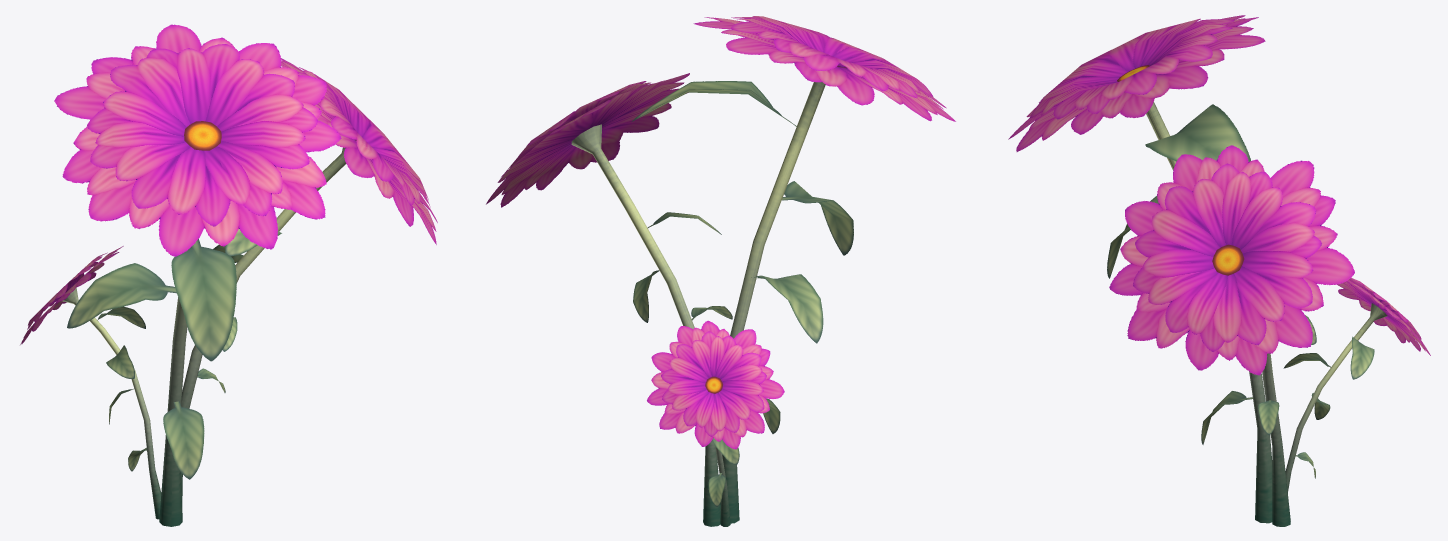
File: ENV1110008.FBX
3 views of the same model, side by side, from view 1: azimuth 30°, elevation 25°; view 2: azimuth 150°, elevation 25°; view 3: azimuth 270°, elevation 25° (orthographic). The views are drawn at different scales.
Visible parts, largest first — view 1: smENV1110008; view 2: smENV1110008; view 3: smENV1110008.
Part boxes in pixels (x1=…): smENV1110008: x1=20, y1=24, x2=437, y2=526; smENV1110008: x1=486, y1=16, x2=955, y2=526; smENV1110008: x1=1008, y1=15, x2=1430, y2=526.
Size of the model in its own units: 13.96 by 15.79 by 13.01.
Materials: 1 (1 with a texture image).
